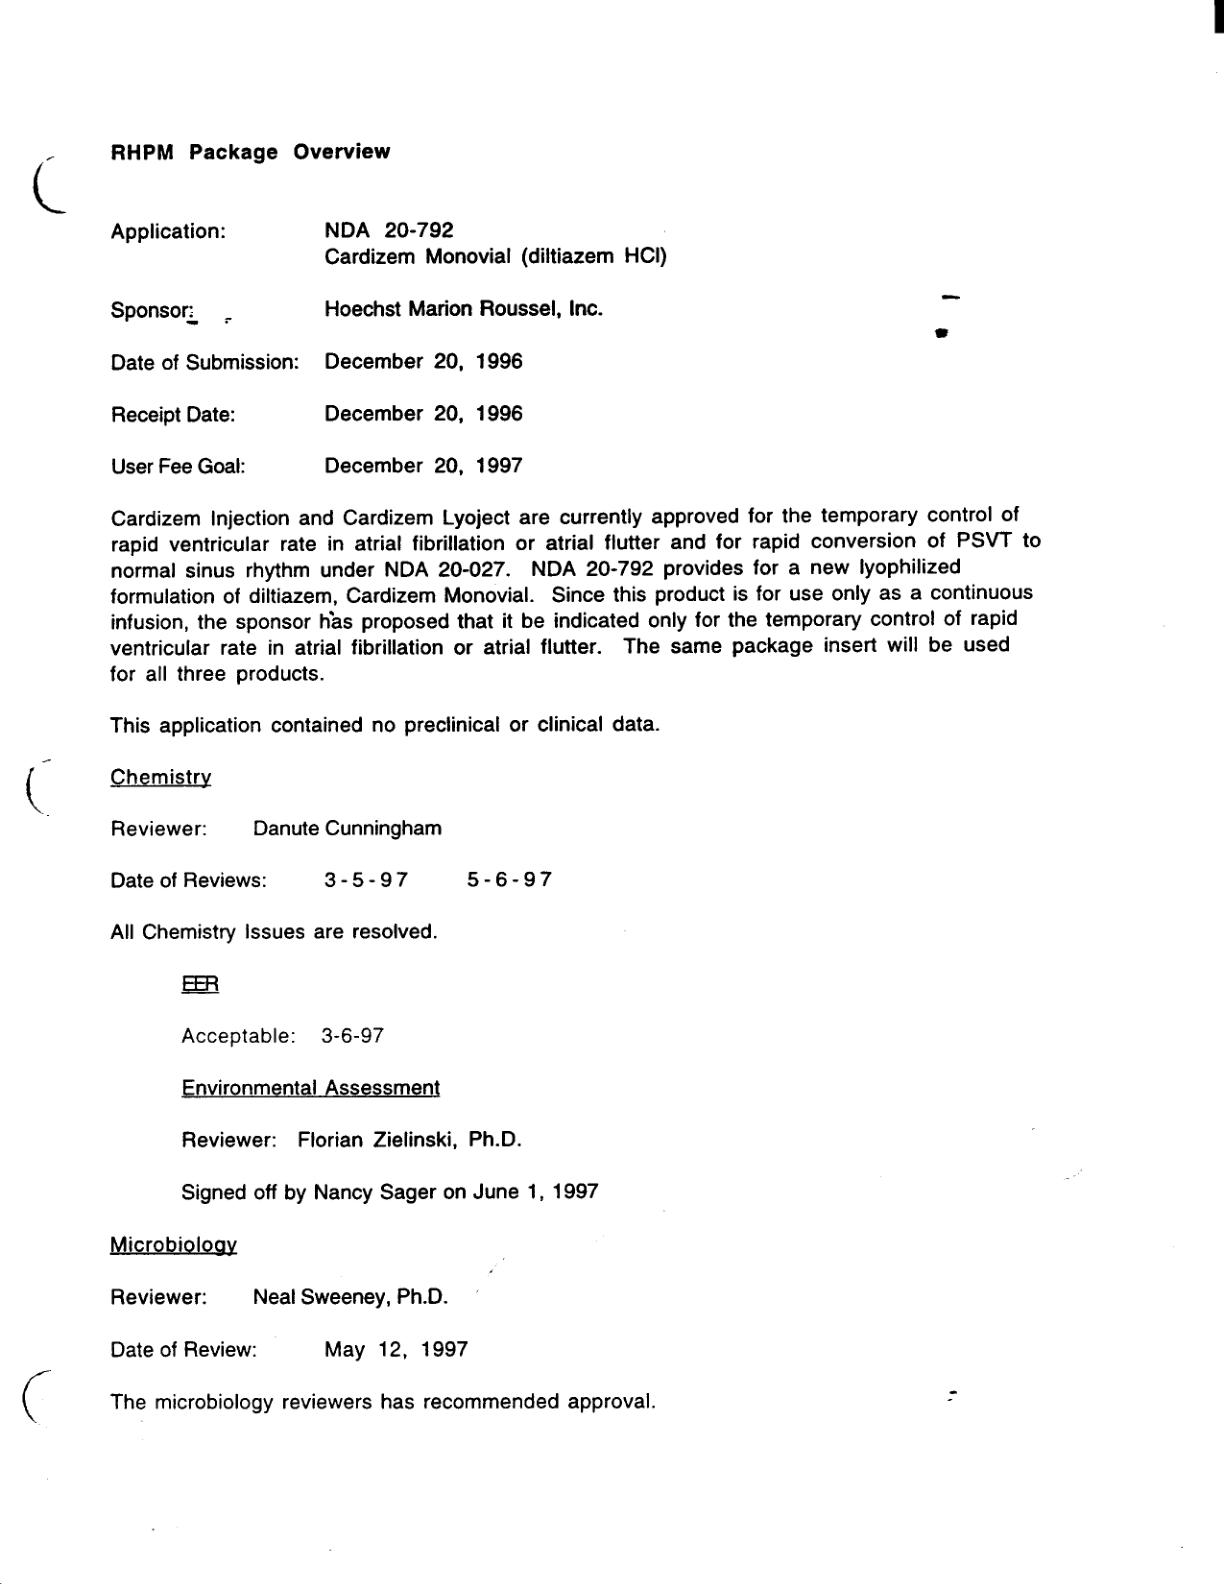nolines: (105, 219, 667, 477)
